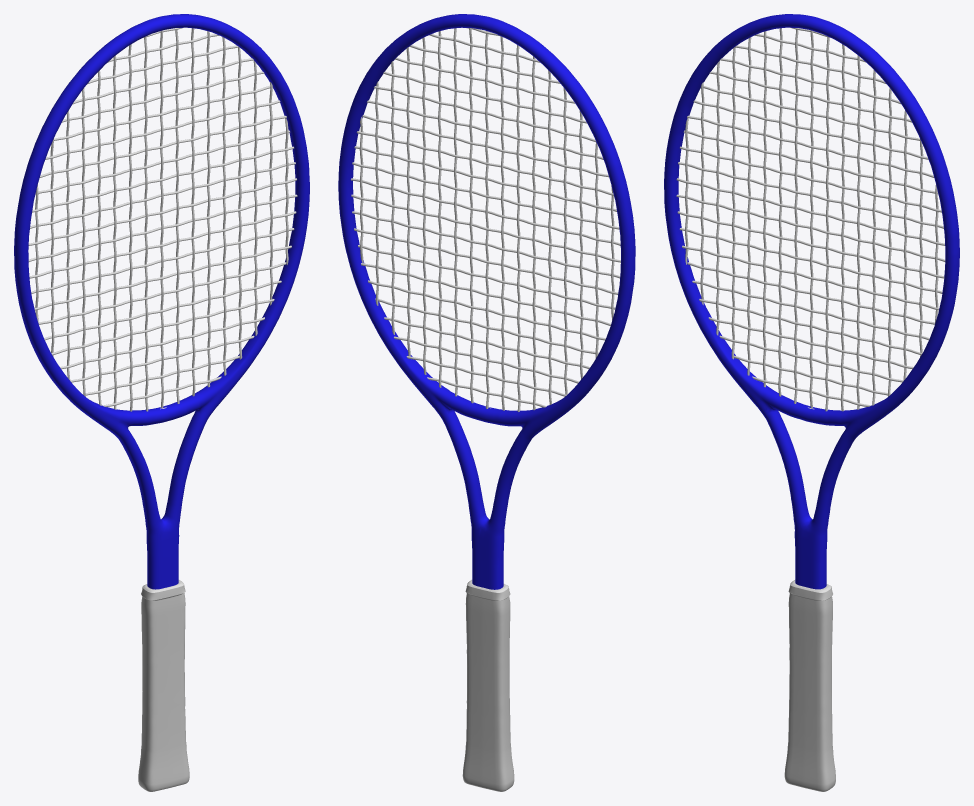
Rendered from racket.fbx.
3 views of the same model, side by side, from view 1: azimuth 30°, elevation 25°; view 2: azimuth 150°, elevation 25°; view 3: azimuth 330°, elevation 25° (orthographic).
Parts seen in each view (by area): view 1: racketStrings, racketFrame, racketHandle; view 2: racketStrings, racketFrame, racketHandle; view 3: racketStrings, racketFrame, racketHandle.
Part boxes in pixels (x1,y1,x2,y2): racketStrings: (28, 27, 297, 411); racketFrame: (14, 14, 309, 589); racketHandle: (138, 580, 189, 791); racketStrings: (351, 28, 620, 411); racketFrame: (338, 14, 635, 589); racketHandle: (462, 580, 514, 791); racketStrings: (676, 27, 945, 411); racketFrame: (664, 14, 959, 589); racketHandle: (784, 580, 835, 791).
Bounding box in the file's own units: 43.58 × 109 × 3.41.
